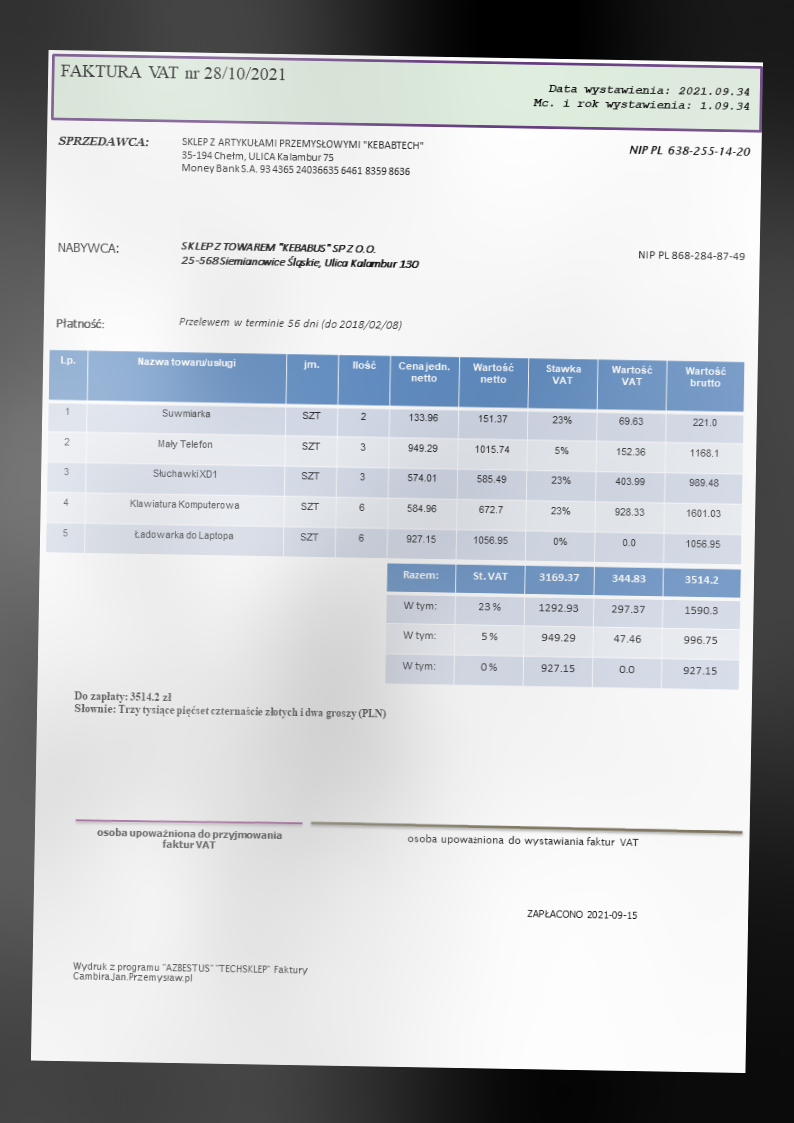Table: (44, 348, 746, 566), (383, 562, 743, 691)
TextBox: (178, 134, 426, 179), (71, 689, 387, 722), (178, 239, 421, 272), (530, 81, 752, 114), (70, 959, 310, 987), (94, 824, 285, 853), (58, 61, 288, 84), (405, 830, 640, 850), (177, 313, 403, 333), (626, 142, 752, 159), (524, 906, 638, 922), (636, 248, 746, 263), (56, 134, 151, 149), (55, 240, 120, 256), (54, 316, 107, 331)
